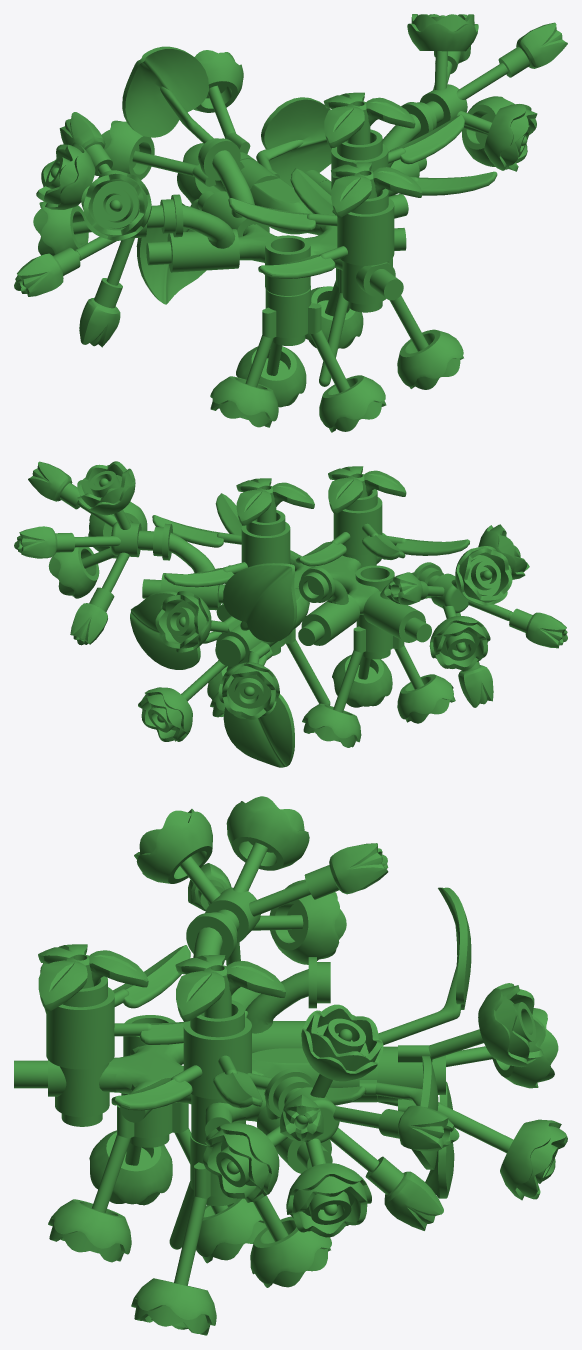
Rendered from plantasVerdes.dae.
3 renders of one model, top to bottom at view 1: azimuth 30°, elevation 25°; view 2: azimuth 150°, elevation 25°; view 3: azimuth 270°, elevation 25°, orthographic. The views are drawn at different scales.
Visible parts, largest first — view 1: Inner-Node-Rosas___28_1_29__dot_io-4, Inner-Node-Rosas___28_1_29__dot_io-1, Inner-Node-Rosas___28_1_29__dot_io-30, Inner-Node-Rosas___28_1_29__dot_io-7, Inner-Node-Rosas___28_1_29__dot_io-2, Inner-Node-Rosas___28_1_29__dot_io-31, Inner-Node-Rosas___28_1_29__dot_io-23, Inner-Node-Rosas___28_1_29__dot_io-6, Inner-Node-Rosas___28_1_29__dot_io-33, Inner-Node-Rosas___28_1_29__dot_io-32, Inner-Node-Rosas___28_1_29__dot_io-16, Inner-Node-Rosas___28_1_29__dot_io-14 (+20 smaller); view 2: Inner-Node-Rosas___28_1_29__dot_io-4, Inner-Node-Rosas___28_1_29__dot_io-31, Inner-Node-Rosas___28_1_29__dot_io-30, Inner-Node-Rosas___28_1_29__dot_io-6, Inner-Node-Rosas___28_1_29__dot_io-1, Inner-Node-Rosas___28_1_29__dot_io-16, Inner-Node-Rosas___28_1_29__dot_io-2, Inner-Node-Rosas___28_1_29__dot_io-0, Inner-Node-Rosas___28_1_29__dot_io-21, Inner-Node-Rosas___28_1_29__dot_io-5, Inner-Node-Rosas___28_1_29__dot_io-10, Inner-Node-Rosas___28_1_29__dot_io-7 (+20 smaller); view 3: Inner-Node-Rosas___28_1_29__dot_io-1, Inner-Node-Rosas___28_1_29__dot_io-31, Inner-Node-Rosas___28_1_29__dot_io-30, Inner-Node-Rosas___28_1_29__dot_io-4, Inner-Node-Rosas___28_1_29__dot_io-5, Inner-Node-Rosas___28_1_29__dot_io-17, Inner-Node-Rosas___28_1_29__dot_io-24, Inner-Node-Rosas___28_1_29__dot_io-27, Inner-Node-Rosas___28_1_29__dot_io-33, Inner-Node-Rosas___28_1_29__dot_io-28, Inner-Node-Rosas___28_1_29__dot_io-21, Inner-Node-Rosas___28_1_29__dot_io-10 (+21 smaller).
Boxes of the visible parts, x1=… form: Inner-Node-Rosas___28_1_29__dot_io-4: x1=122, y1=46, x2=331, y2=304; Inner-Node-Rosas___28_1_29__dot_io-1: x1=238, y1=170, x2=408, y2=312; Inner-Node-Rosas___28_1_29__dot_io-30: x1=228, y1=168, x2=394, y2=278; Inner-Node-Rosas___28_1_29__dot_io-7: x1=146, y1=194, x2=239, y2=272; Inner-Node-Rosas___28_1_29__dot_io-2: x1=245, y1=286, x2=350, y2=392; Inner-Node-Rosas___28_1_29__dot_io-31: x1=331, y1=114, x2=497, y2=195; Inner-Node-Rosas___28_1_29__dot_io-23: x1=81, y1=170, x2=151, y2=240; Inner-Node-Rosas___28_1_29__dot_io-6: x1=197, y1=138, x2=269, y2=236; Inner-Node-Rosas___28_1_29__dot_io-33: x1=323, y1=92, x2=415, y2=148; Inner-Node-Rosas___28_1_29__dot_io-32: x1=331, y1=162, x2=422, y2=217; Inner-Node-Rosas___28_1_29__dot_io-16: x1=420, y1=15, x2=527, y2=145; Inner-Node-Rosas___28_1_29__dot_io-14: x1=397, y1=329, x2=463, y2=389; Inner-Node-Rosas___28_1_29__dot_io-4: x1=130, y1=563, x2=296, y2=767; Inner-Node-Rosas___28_1_29__dot_io-31: x1=152, y1=493, x2=290, y2=587; Inner-Node-Rosas___28_1_29__dot_io-30: x1=296, y1=489, x2=469, y2=566; Inner-Node-Rosas___28_1_29__dot_io-6: x1=298, y1=566, x2=359, y2=645; Inner-Node-Rosas___28_1_29__dot_io-1: x1=216, y1=533, x2=394, y2=629; Inner-Node-Rosas___28_1_29__dot_io-16: x1=74, y1=478, x2=153, y2=592; Inner-Node-Rosas___28_1_29__dot_io-2: x1=333, y1=615, x2=423, y2=712; Inner-Node-Rosas___28_1_29__dot_io-0: x1=218, y1=662, x2=279, y2=719; Inner-Node-Rosas___28_1_29__dot_io-21: x1=455, y1=546, x2=512, y2=605; Inner-Node-Rosas___28_1_29__dot_io-5: x1=157, y1=616, x2=270, y2=722; Inner-Node-Rosas___28_1_29__dot_io-10: x1=155, y1=591, x2=211, y2=652; Inner-Node-Rosas___28_1_29__dot_io-7: x1=363, y1=562, x2=443, y2=642; Inner-Node-Rosas___28_1_29__dot_io-1: x1=14, y1=1015, x2=319, y2=1145; Inner-Node-Rosas___28_1_29__dot_io-31: x1=111, y1=1000, x2=366, y2=1110; Inner-Node-Rosas___28_1_29__dot_io-30: x1=40, y1=945, x2=248, y2=1069; Inner-Node-Rosas___28_1_29__dot_io-4: x1=329, y1=887, x2=471, y2=1198; Inner-Node-Rosas___28_1_29__dot_io-5: x1=377, y1=1029, x2=547, y2=1167; Inner-Node-Rosas___28_1_29__dot_io-17: x1=180, y1=842, x2=310, y2=965; Inner-Node-Rosas___28_1_29__dot_io-24: x1=301, y1=1004, x2=383, y2=1081; Inner-Node-Rosas___28_1_29__dot_io-27: x1=286, y1=1163, x2=371, y2=1237; Inner-Node-Rosas___28_1_29__dot_io-33: x1=175, y1=955, x2=285, y2=1021; Inner-Node-Rosas___28_1_29__dot_io-28: x1=203, y1=1122, x2=279, y2=1202; Inner-Node-Rosas___28_1_29__dot_io-21: x1=226, y1=796, x2=309, y2=870; Inner-Node-Rosas___28_1_29__dot_io-10: x1=478, y1=983, x2=545, y2=1067.
Bounding box in the file's own units: 236 × 119 × 160.
